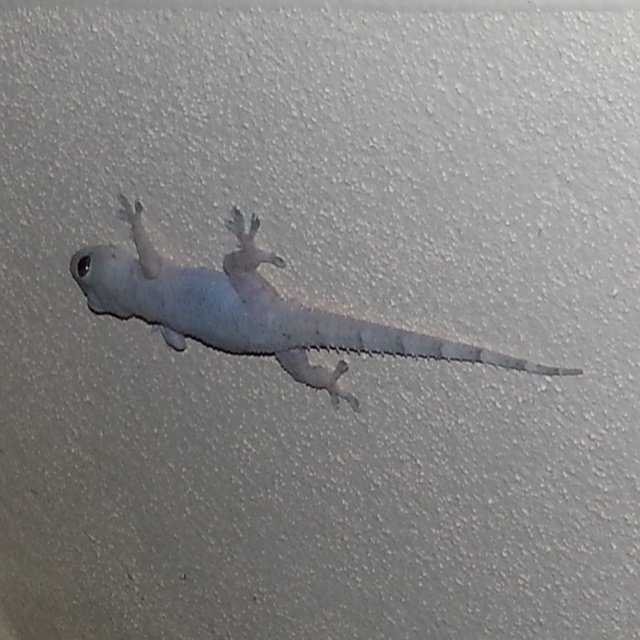Lizard: (57, 199, 592, 430)
